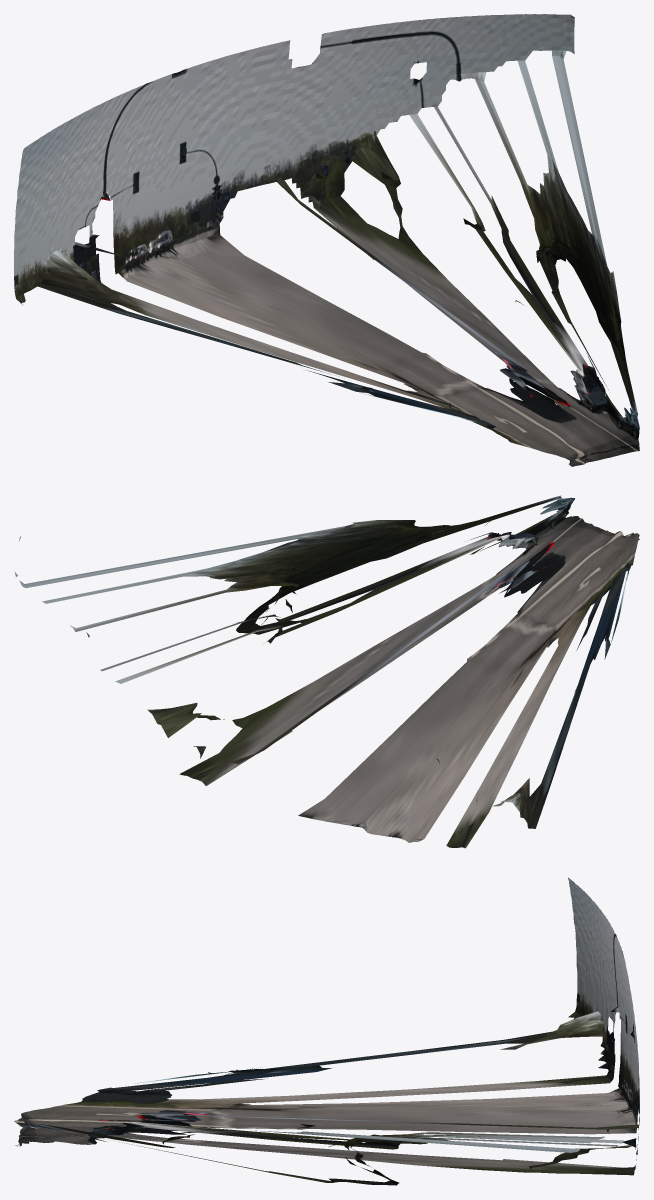
3 views of the same model, one above another, from view 1: azimuth 30°, elevation 25°; view 2: azimuth 150°, elevation 25°; view 3: azimuth 270°, elevation 25° (orthographic). The views are drawn at different scales.
Visible parts, largest first — view 1: defaultobject; view 2: defaultobject; view 3: defaultobject.
Part boxes in pixels (<box>): defaultobject: <box>14,14,639,466</box>; defaultobject: <box>14,495,639,848</box>; defaultobject: <box>14,878,639,1185</box>.
Bounding box in the file's own units: 40.95 × 13.5 × 44.59.
1 material, 1 textured.
